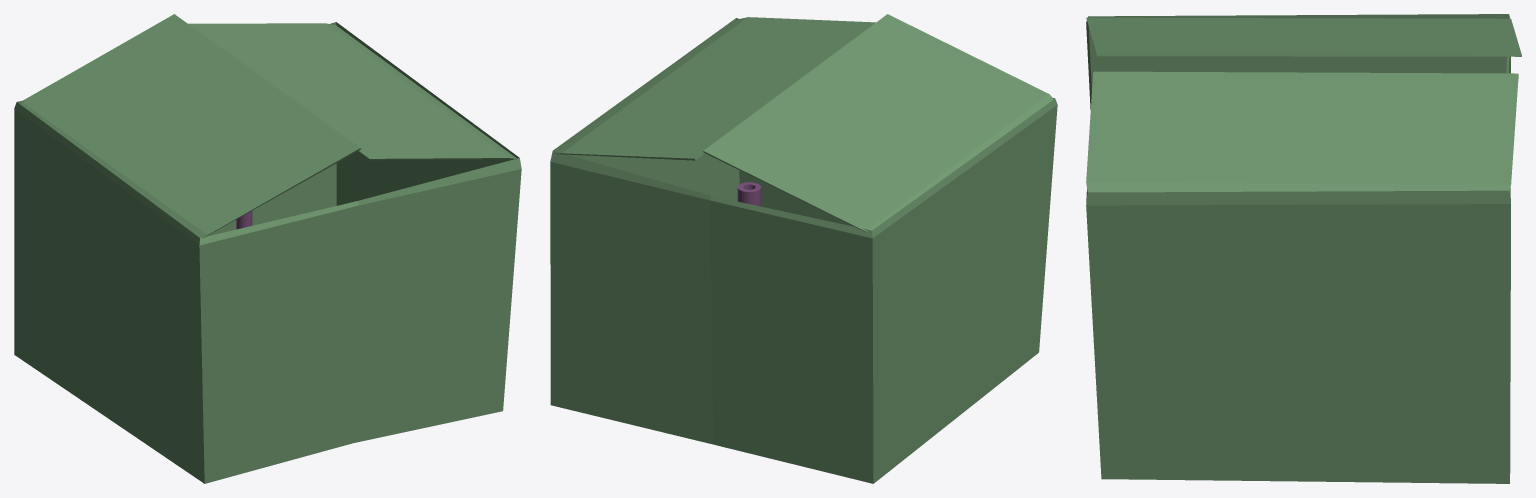
Rendered from BoxPropsMicro.fbx.
3 views of the same model, side by side, from view 1: azimuth 30°, elevation 25°; view 2: azimuth 150°, elevation 25°; view 3: azimuth 270°, elevation 25° (orthographic). The views are drawn at different scales.
Visible parts, largest first — view 1: Bot, R_Open, L_Open; view 2: Bot, R_Open, L_Open; view 3: Bot, L_Open, R_Open.
Part boxes in pixels (left/top/right/bottom): Bot: left=14, top=22, right=521, bottom=483; R_Open: left=20, top=14, right=360, bottom=238; L_Open: left=188, top=23, right=516, bottom=160; Bot: left=550, top=18, right=1057, bottom=483; R_Open: left=703, top=14, right=1053, bottom=233; L_Open: left=555, top=17, right=875, bottom=160; Bot: left=1086, top=14, right=1510, bottom=483; L_Open: left=1086, top=71, right=1518, bottom=192; R_Open: left=1086, top=17, right=1521, bottom=56.
Bounding box in the file's own units: 52.44 × 46.52 × 53.38.
